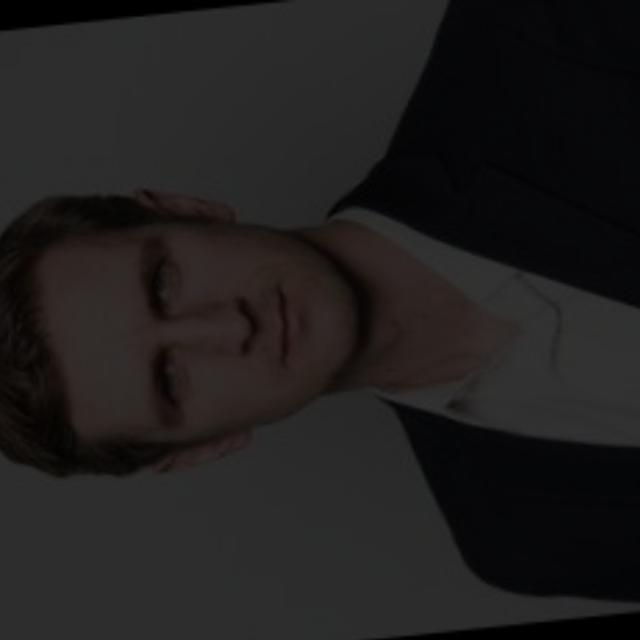Natural: (55, 166, 398, 489)
